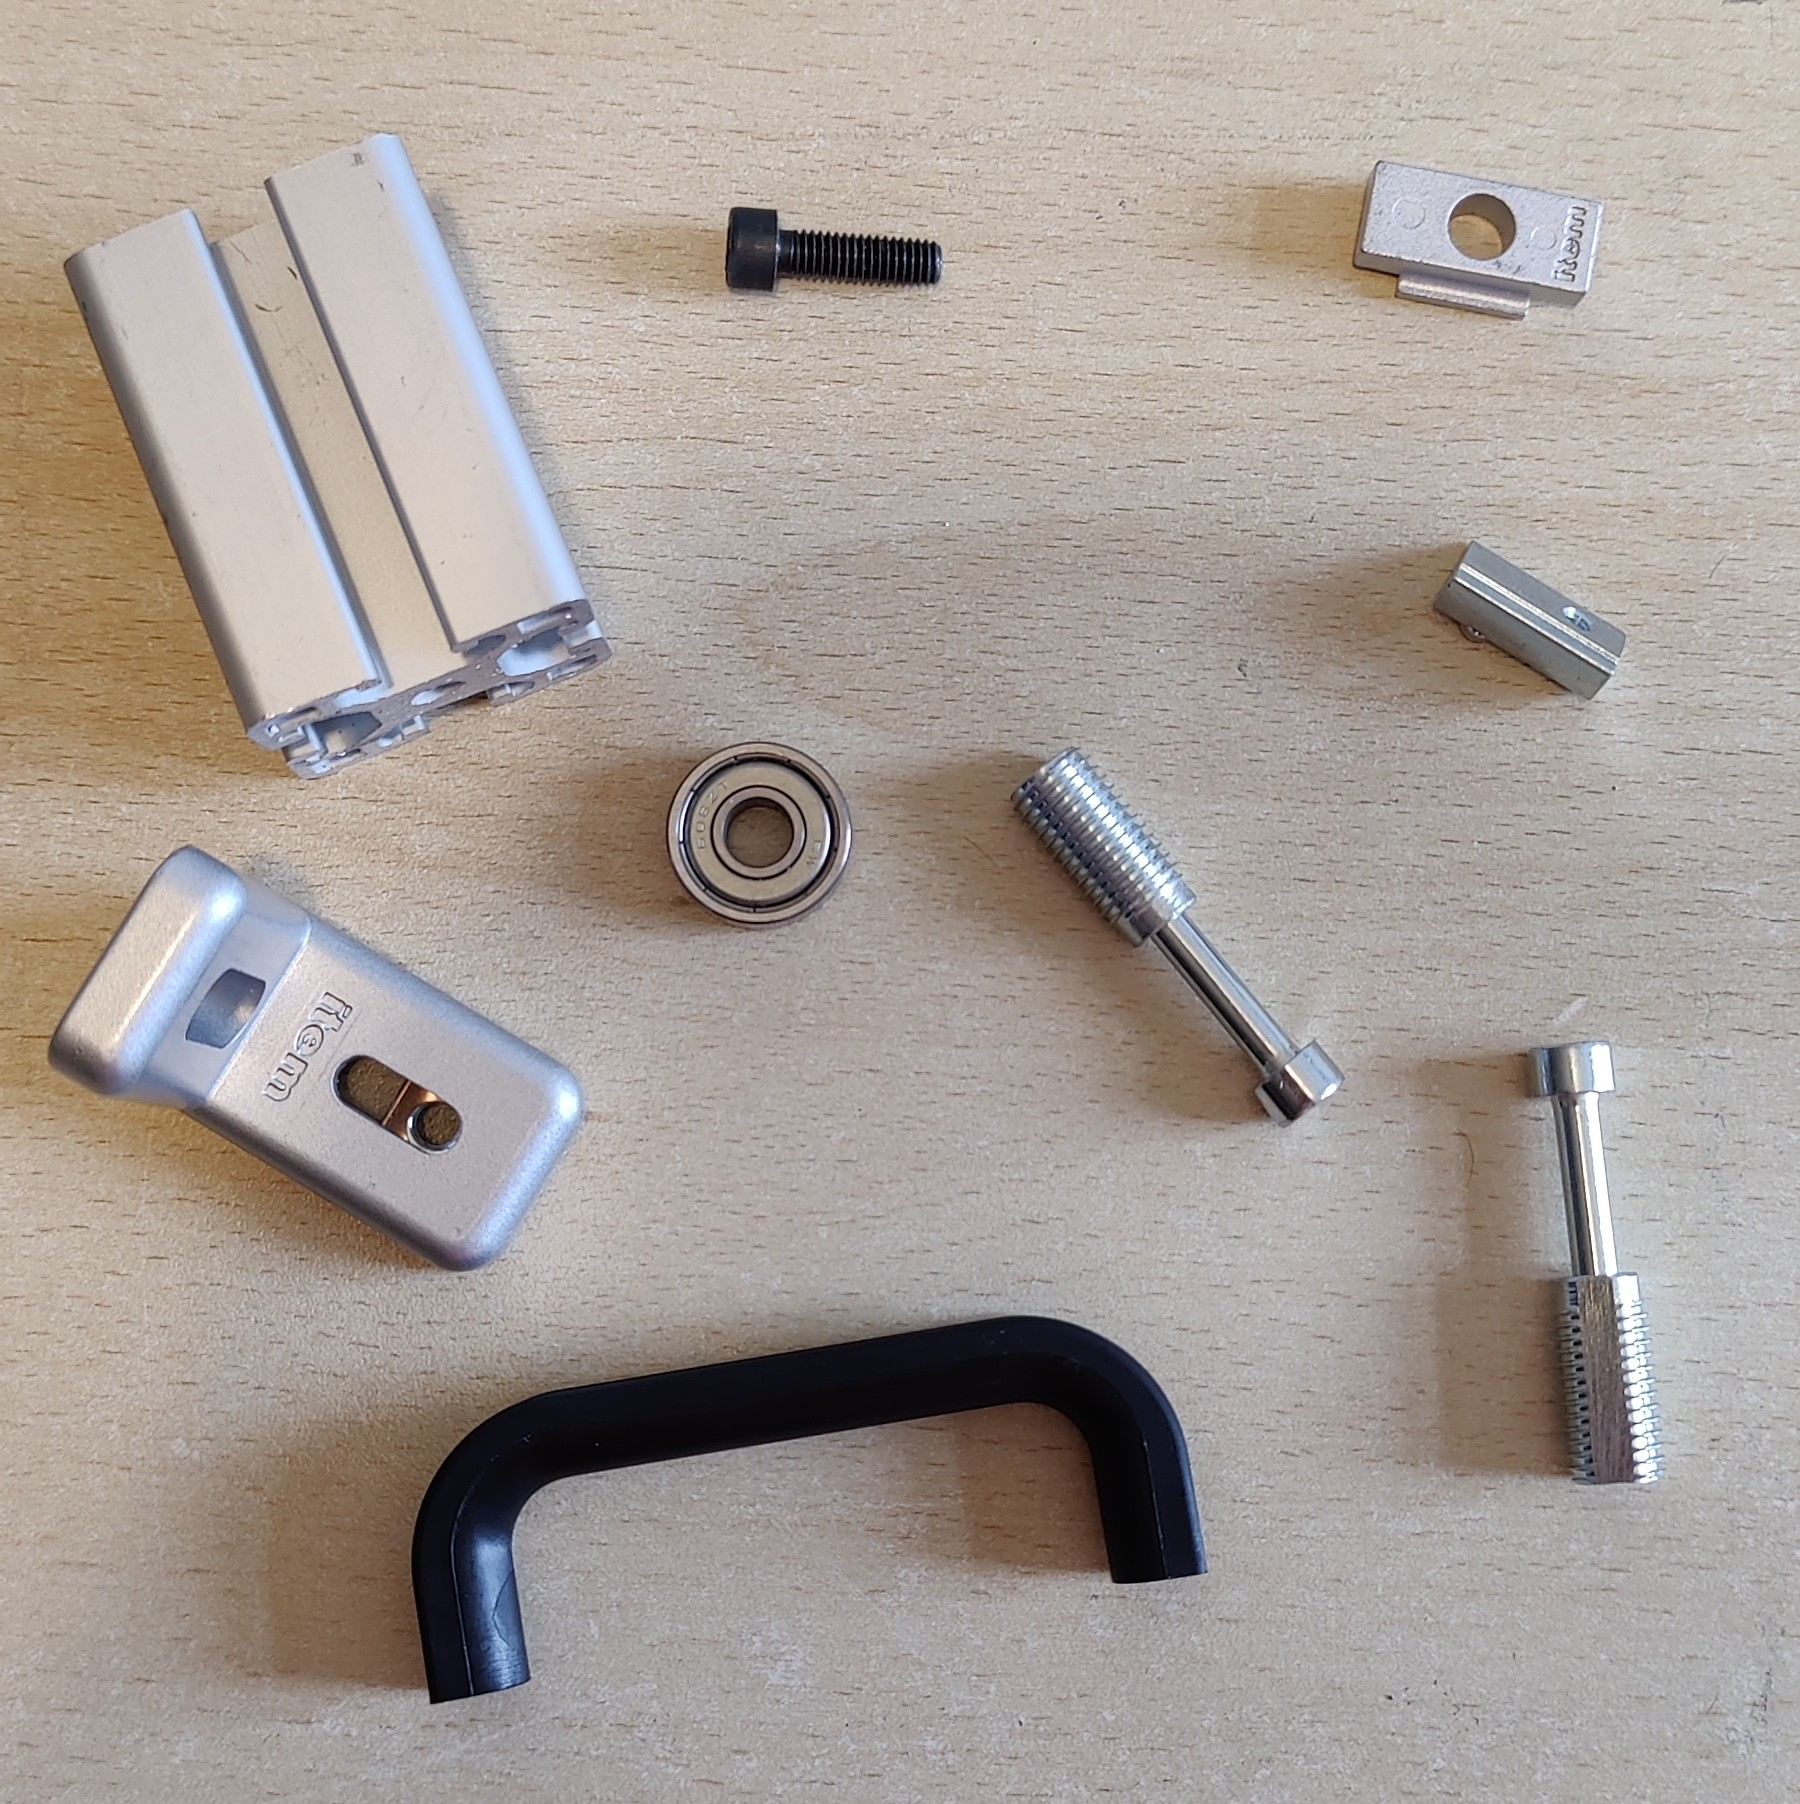Aluminium Extension: (64, 130, 615, 782)
Ball Bearing: (664, 740, 852, 930)
Multiwinkel: (45, 844, 585, 1273)
Pull Handle: (410, 1311, 1212, 1705)
Shoulder Socket Head Cap Screw: (1005, 740, 1345, 1130), (1521, 1041, 1668, 1491)
Socket Head Cap Screw: (722, 204, 945, 297)
T Nut Square: (1348, 157, 1605, 325)
T Spring Nut: (1429, 543, 1629, 704)
